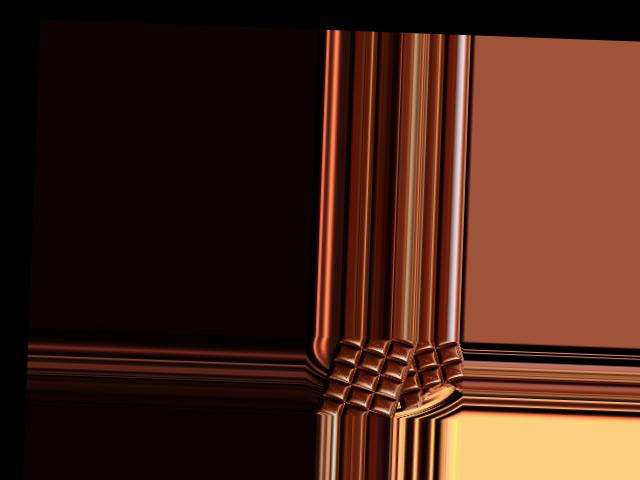chocolate: (313, 335, 419, 417)
